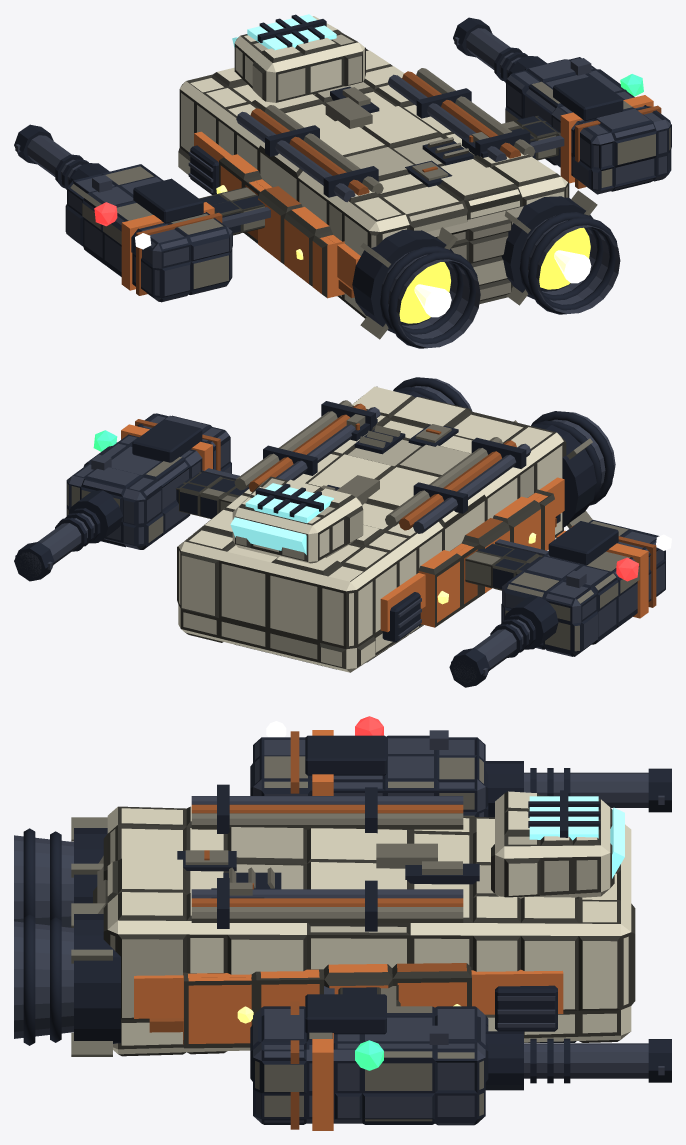
File: sparrow.glb
3 renders of one model, top to bottom at view 1: azimuth 30°, elevation 25°; view 2: azimuth 150°, elevation 25°; view 3: azimuth 270°, elevation 25°, orthographic. The views are drawn at different scales.
Visible parts, largest first — view 1: sparrow_mesh; view 2: sparrow_mesh; view 3: sparrow_mesh.
Boxes of the visible parts, x1,y1,x2,y2 form: sparrow_mesh: (14,14,671,348); sparrow_mesh: (14,377,665,687); sparrow_mesh: (14,716,671,1130).
Size of the model in its own units: 7.54 by 2.09 by 6.22.
